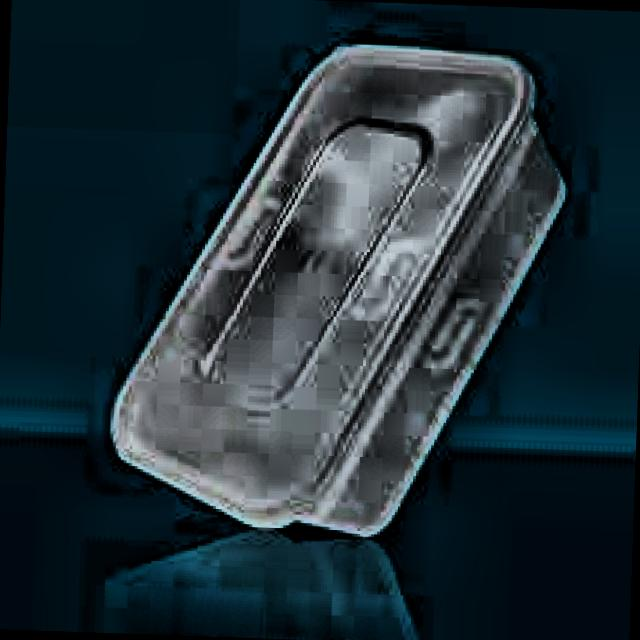plastic container: (113, 48, 563, 532)
